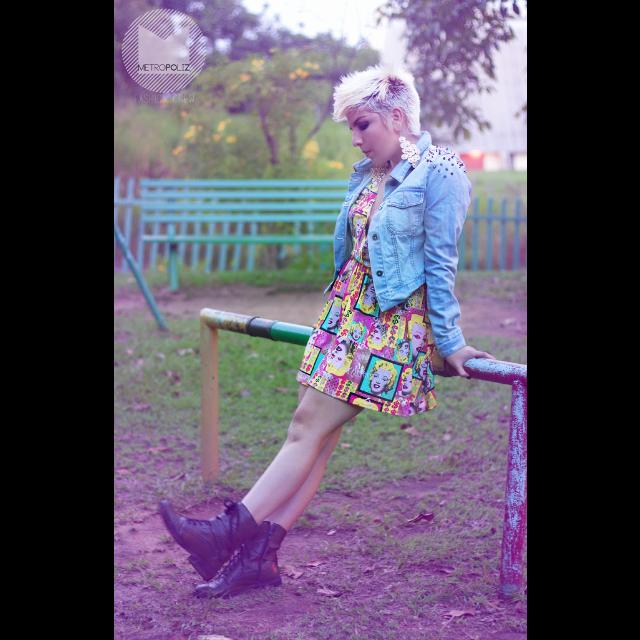Flower: (173, 122, 199, 156), (287, 58, 319, 82), (303, 139, 321, 165), (250, 58, 262, 68), (224, 137, 236, 143), (239, 73, 247, 81), (334, 160, 342, 168), (211, 135, 221, 141), (160, 98, 166, 106), (329, 158, 335, 165), (182, 109, 186, 119), (220, 121, 224, 129)
